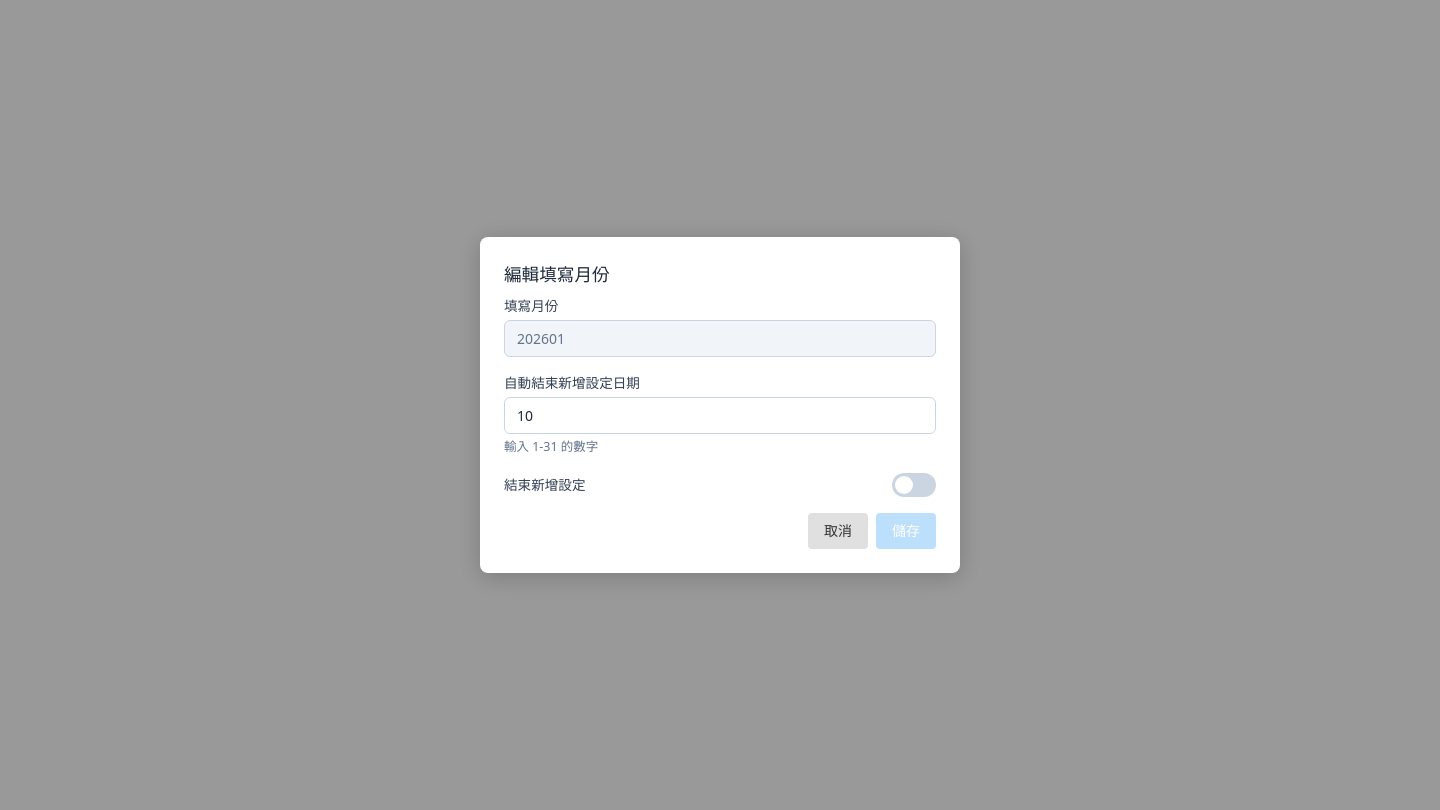
Scenario: EditConfigDialog › shows validation error for auto_close_day > 31
Replace the text in the number field labelled "自動結束新增設定日期" with "32". click: (720, 416)
box: [504, 397, 936, 434]
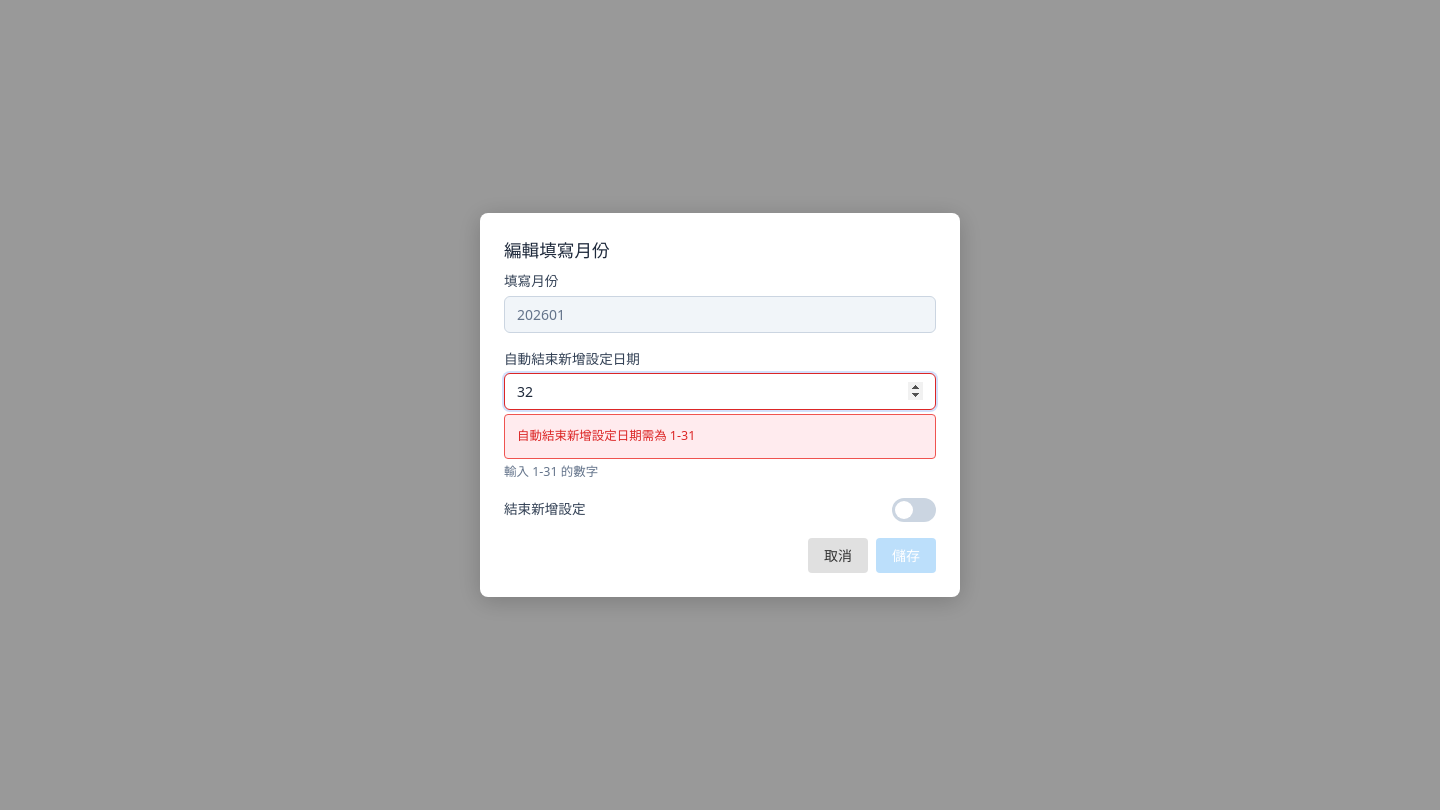
Expected: the text "自動結束新增設定日期需為 1-31" is shown, [504, 414, 936, 459]
